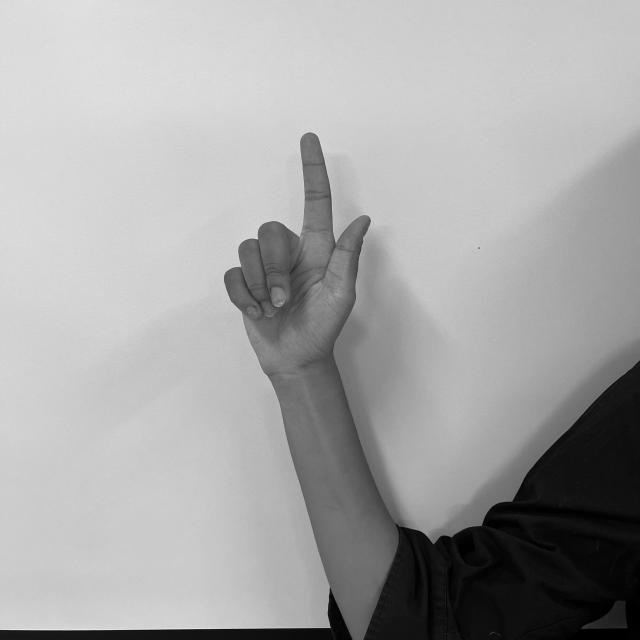Letra G: (218, 127, 377, 372)
